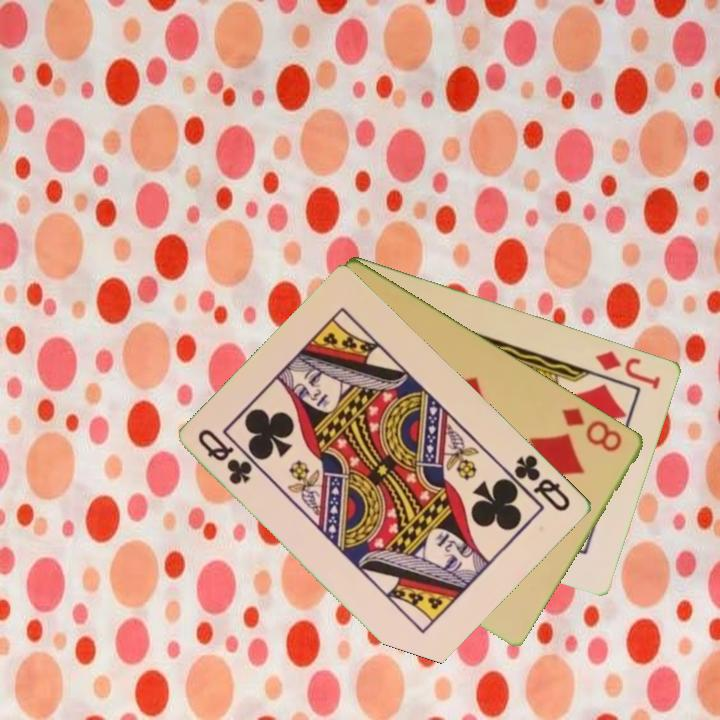8d: (558, 404, 626, 455)
Jd: (592, 347, 664, 392)
Qc: (502, 451, 574, 515), (195, 425, 256, 488)
